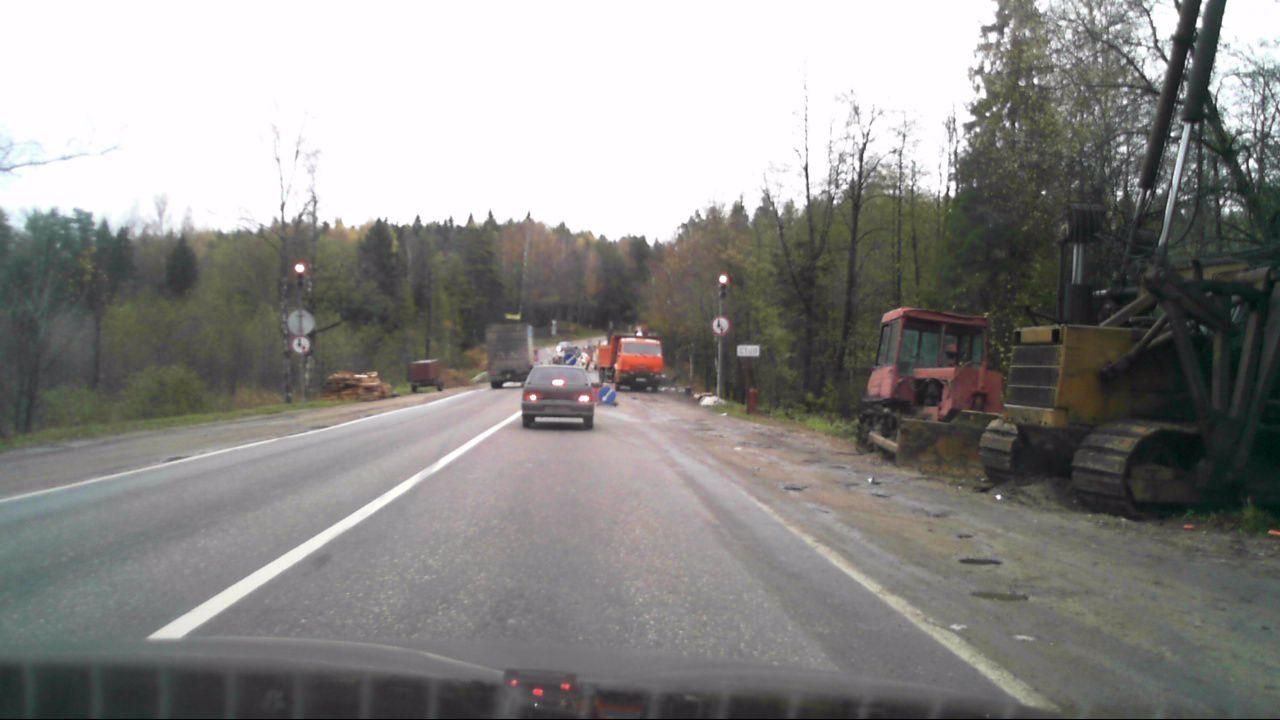2_6: (291, 334, 312, 354), (710, 316, 730, 335)
6_16: (736, 344, 760, 357)
